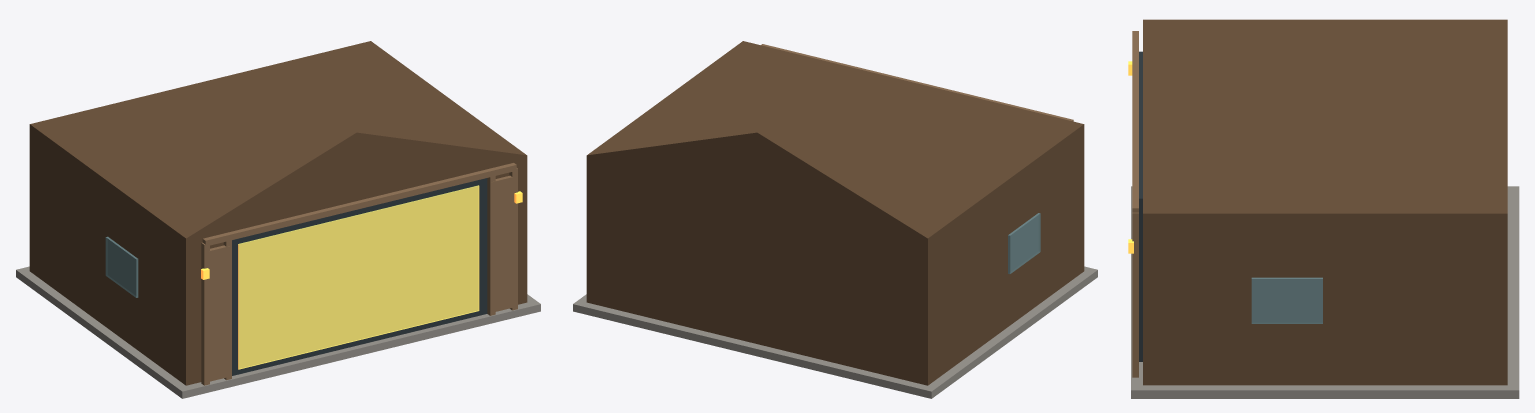
Rendered from building-airplane-hangar.glb.
3 renders of one model, left to right at view 1: azimuth 30°, elevation 25°; view 2: azimuth 150°, elevation 25°; view 3: azimuth 270°, elevation 25°, orthographic. The views are drawn at different scales.
Parts seen in each view (by area): view 1: building-airplane-hangar; view 2: building-airplane-hangar; view 3: building-airplane-hangar.
Part boxes in pixels (x1,y1,x2,y2): building-airplane-hangar: [16, 41, 540, 398]; building-airplane-hangar: [573, 41, 1097, 398]; building-airplane-hangar: [1128, 19, 1519, 398].
Bounding box in the file's own units: 10.26 × 5.95 × 8.29.
